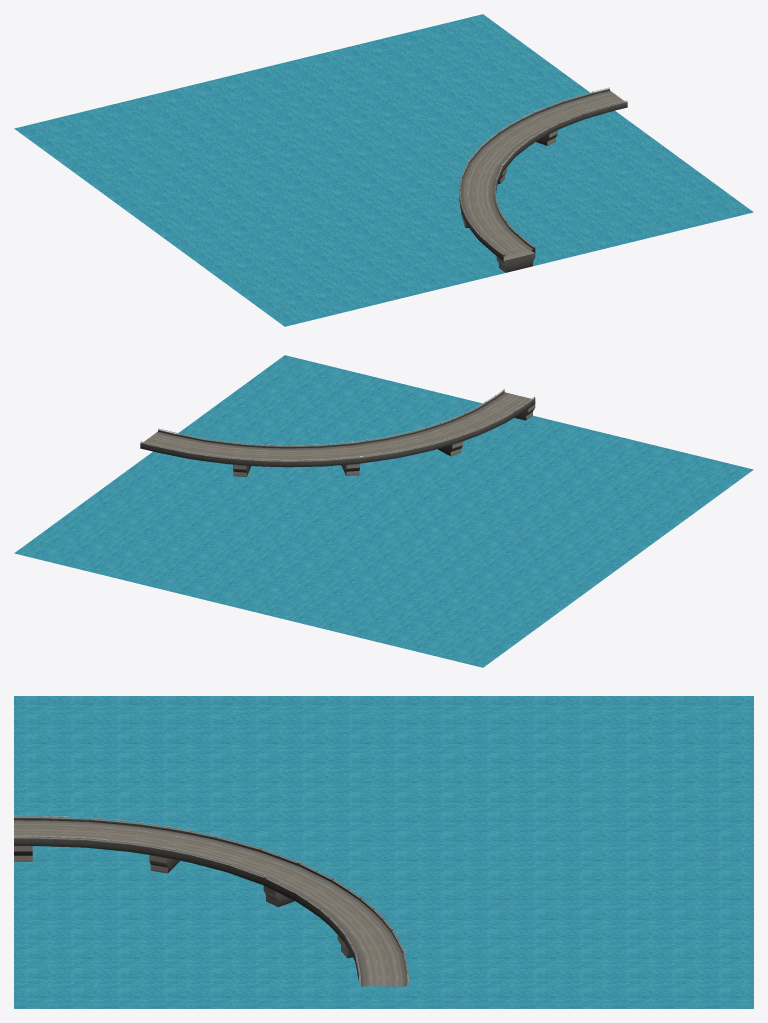
Rendered from Track_RightCurve_Low.FBX.
3 renders of one model, top to bottom at view 1: azimuth 30°, elevation 25°; view 2: azimuth 150°, elevation 25°; view 3: azimuth 270°, elevation 25°, orthographic. The views are drawn at different scales.
Parts seen in each view (by area): view 1: Wave, Road, Pillar; view 2: Wave, Road; view 3: Wave, Road.
Boxes of the visible parts, x1,y1,x2,y2 form: Wave: (14,14,753,326); Road: (459,87,627,260); Pillar: (496,250,535,272); Wave: (14,355,753,667); Road: (140,389,535,467); Wave: (14,696,753,1008); Road: (14,815,408,986).
Size of the model in its own units: 6300 by 251 by 6300.
